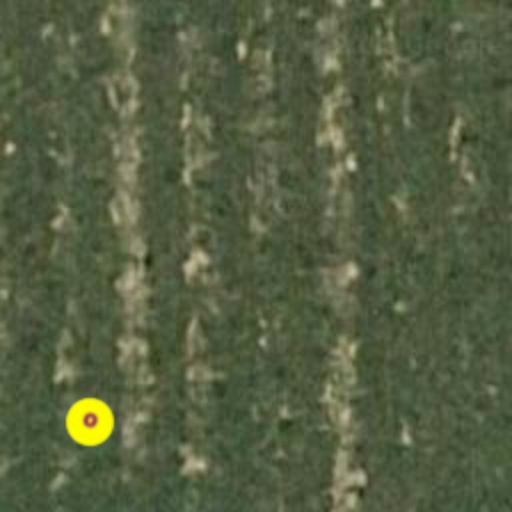circle: (60, 392, 120, 452)
